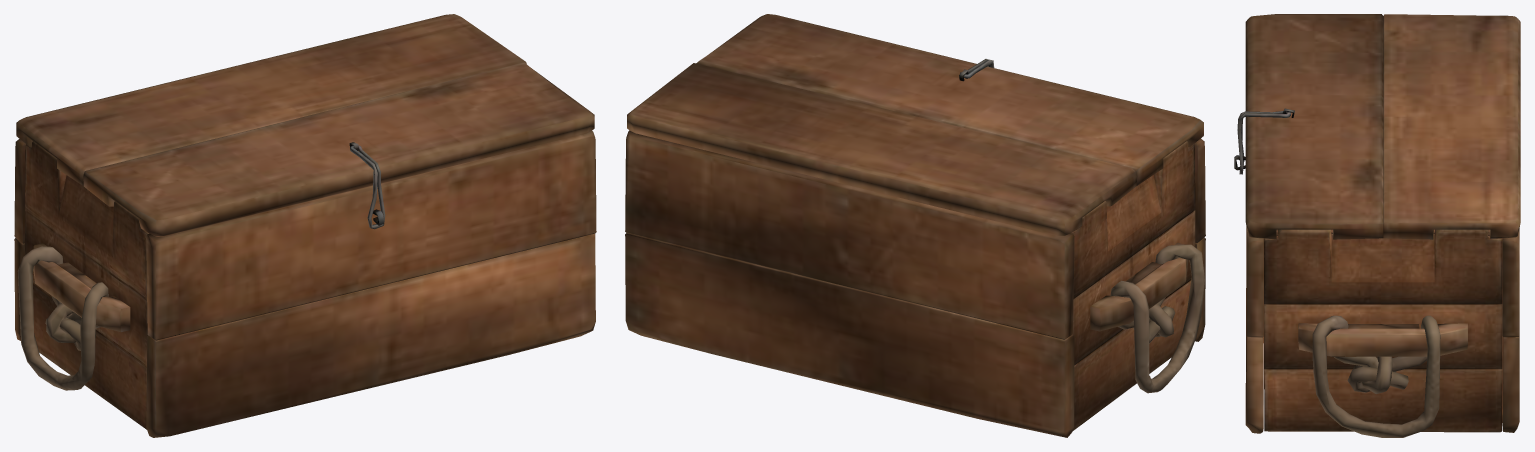
Rendered from wooden_crate_01.glb.
The picture shows the model from 3 angles, left to right: view 1: azimuth 30°, elevation 25°; view 2: azimuth 150°, elevation 25°; view 3: azimuth 270°, elevation 25°; orthographic projection. The views are drawn at different scales.
Parts seen in each view (by area): view 1: wooden_crate_01, wooden_crate_01_lid, wooden_crate_01_latch; view 2: wooden_crate_01, wooden_crate_01_lid; view 3: wooden_crate_01_lid, wooden_crate_01, wooden_crate_01_latch.
Part boxes in pixels (x1,y1,x2,y2): wooden_crate_01: (14, 131, 596, 437); wooden_crate_01_lid: (16, 14, 594, 236); wooden_crate_01_latch: (350, 145, 385, 229); wooden_crate_01: (625, 130, 1205, 437); wooden_crate_01_lid: (627, 14, 1203, 236); wooden_crate_01_lid: (1245, 14, 1520, 239); wooden_crate_01: (1234, 155, 1519, 437); wooden_crate_01_latch: (1237, 111, 1290, 174).
Bounding box in the file's own units: 0.8245 × 0.3471 × 0.4069.
1 material, 1 textured.
